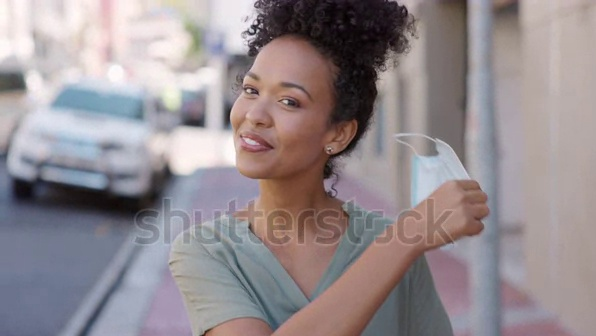No Mask: (221, 120, 323, 185)
